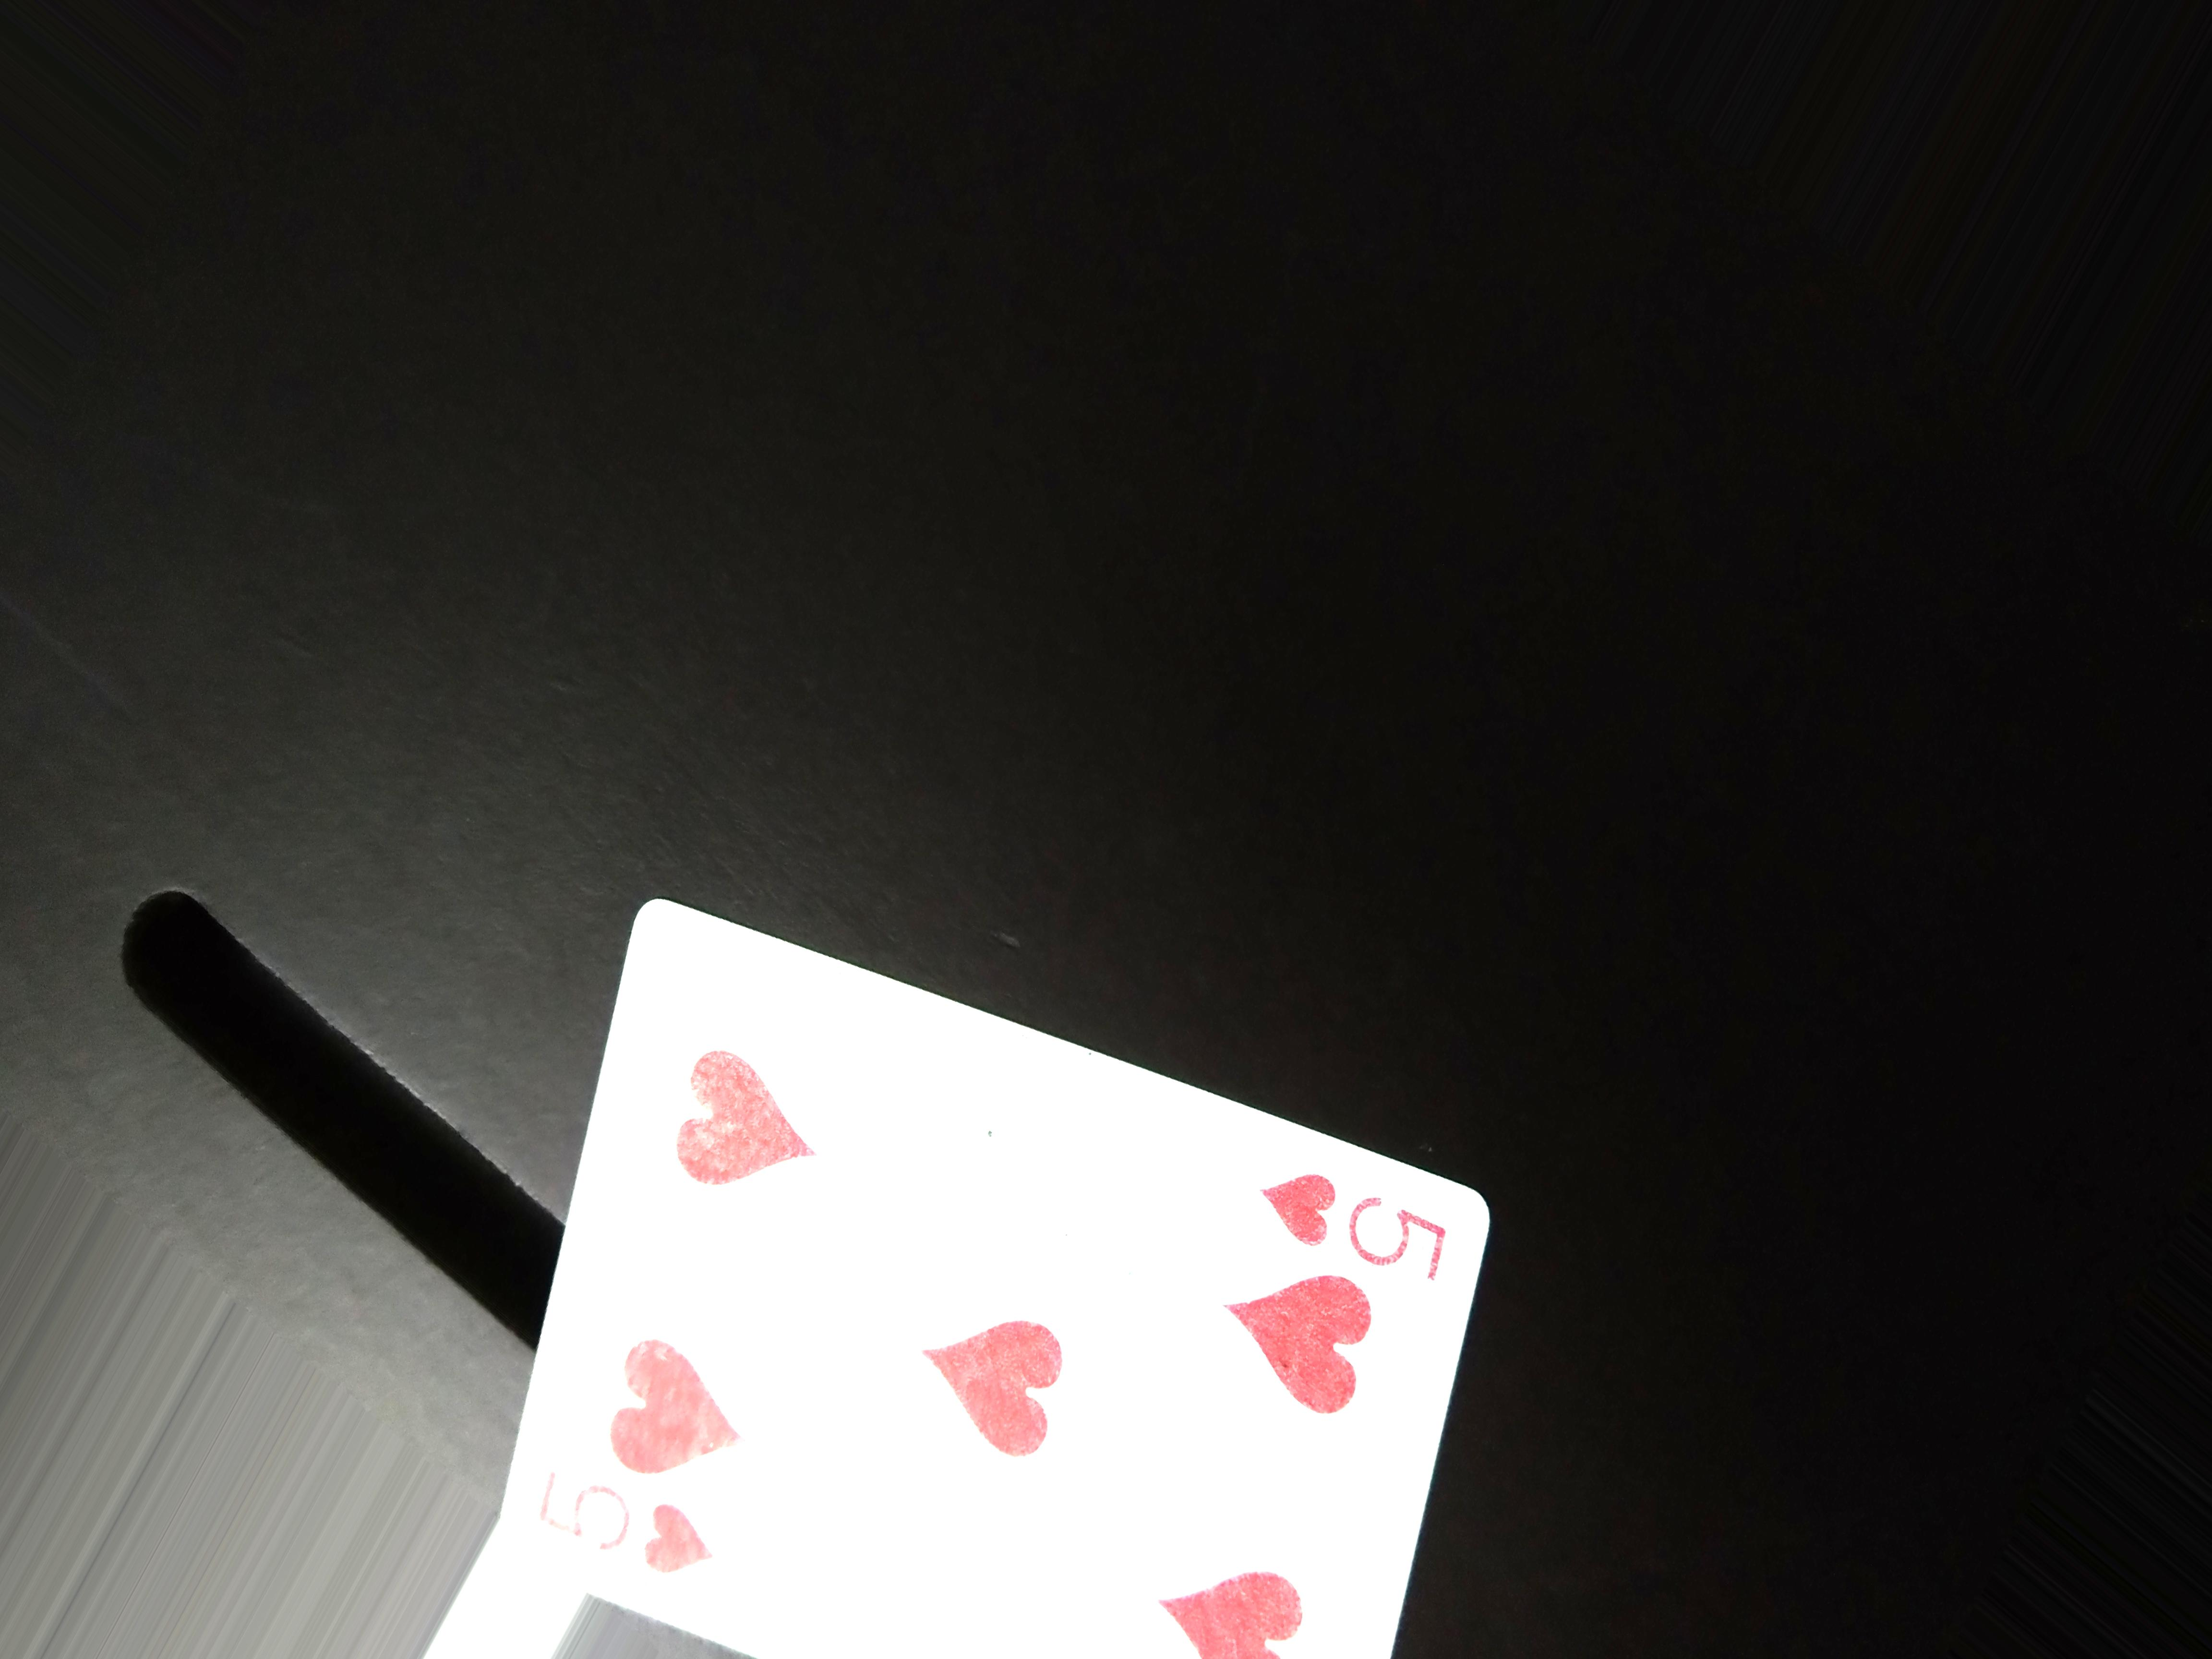5H: (1263, 1161, 1501, 1288)
